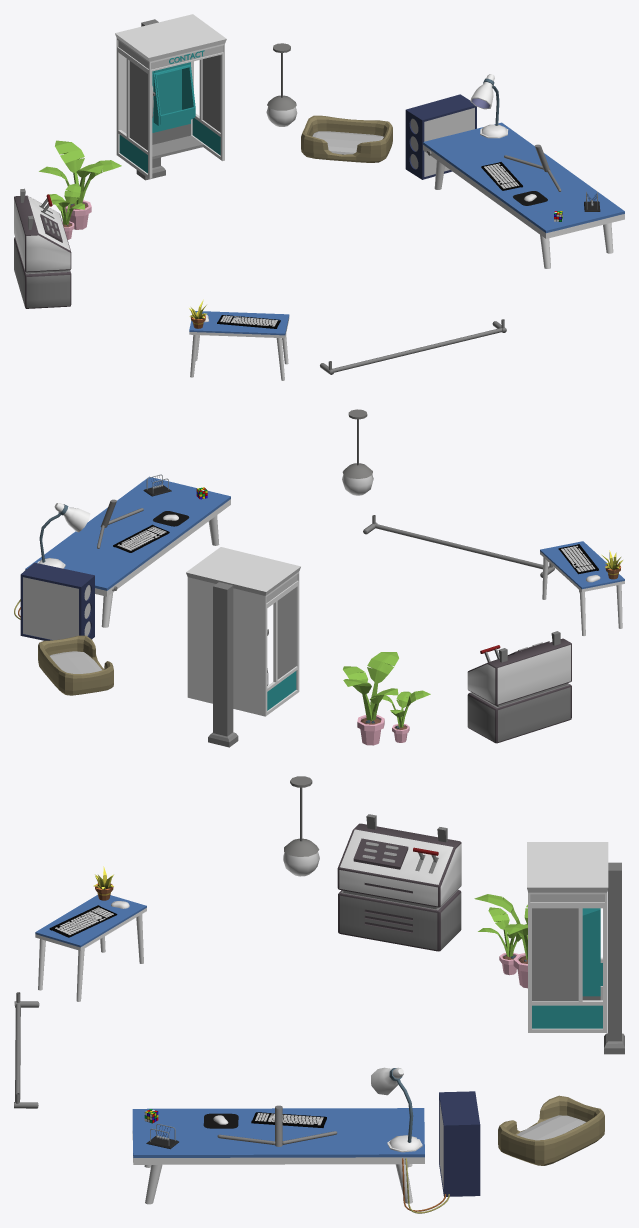
File: Scenario.glb
3 renders of one model, top to bottom at view 1: azimuth 30°, elevation 25°; view 2: azimuth 150°, elevation 25°; view 3: azimuth 270°, elevation 25°, orthographic. The views are drawn at different scales.
Parts seen in each view (by area): view 1: MesaAbout, SkillsBase, Cube.008, Cube.010, DogBed_Cube.001, PcAbout.001, PhoneBox, Phone, plant_01_Cube.001, MesaProjects, Cube.006, Light_Ceiling2 (+5 smaller); view 2: MesaAbout, SkillsBase, PhoneBox, PcAbout.001, Cube.008, Cube.012, DogBed_Cube.001, plant_01_Cube.001, Cube.010, MesaProjects, Light_Ceiling2, Cube.006 (+6 smaller); view 3: MesaAbout, SkillsBase, Cube.010, Cube.008, DogBed_Cube.001, PcAbout.001, Cube.012, PhoneBox, MesaProjects, Phone, Light_Ceiling2, Light Desk.001 (+7 smaller).
Part boxes in pixels (left/top/right/bottom): MesaAbout: left=423, top=122, right=624, bottom=238; SkillsBase: left=14, top=195, right=71, bottom=308; Cube.008: left=115, top=14, right=226, bottom=71; Cube.010: left=119, top=55, right=220, bottom=173; DogBed_Cube.001: left=301, top=115, right=392, bottom=162; PcAbout.001: left=405, top=94, right=476, bottom=179; PhoneBox: left=116, top=48, right=224, bottom=178; Phone: left=152, top=62, right=195, bottom=144; plant_01_Cube.001: left=39, top=140, right=121, bottom=229; MesaProjects: left=189, top=311, right=289, bottom=338; Cube.006: left=320, top=319, right=506, bottom=374; Light_Ceiling2: left=266, top=43, right=297, bottom=126; MesaAbout: left=25, top=476, right=230, bottom=596; SkillsBase: left=467, top=638, right=571, bottom=743; PhoneBox: left=187, top=582, right=299, bottom=716; PcAbout.001: left=20, top=562, right=94, bottom=640; Cube.008: left=186, top=547, right=300, bottom=606; Cube.012: left=208, top=582, right=238, bottom=747; DogBed_Cube.001: left=38, top=635, right=113, bottom=695; plant_01_Cube.001: left=343, top=652, right=398, bottom=745; Cube.010: left=267, top=587, right=296, bottom=710; MesaProjects: left=540, top=541, right=624, bottom=592; Light_Ceiling2: left=342, top=409, right=373, bottom=495; Cube.006: left=363, top=515, right=554, bottom=577; MesaAbout: left=132, top=1108, right=424, bottom=1164; SkillsBase: left=337, top=823, right=461, bottom=951; Cube.010: left=532, top=908, right=602, bottom=1028; Cube.008: left=527, top=842, right=608, bottom=904; DogBed_Cube.001: left=498, top=1095, right=604, bottom=1165; PcAbout.001: left=439, top=1091, right=480, bottom=1196; Cube.012: left=604, top=862, right=624, bottom=1054; PhoneBox: left=528, top=904, right=606, bottom=1032; MesaProjects: left=35, top=895, right=146, bottom=950; Phone: left=582, top=908, right=600, bottom=1000; Light_Ceiling2: left=283, top=776, right=319, bottom=876; Light Desk.001: left=371, top=1067, right=422, bottom=1152.
Size of the model in its own units: 18.14 by 7.61 by 15.5.
47 materials, 1 textured.
